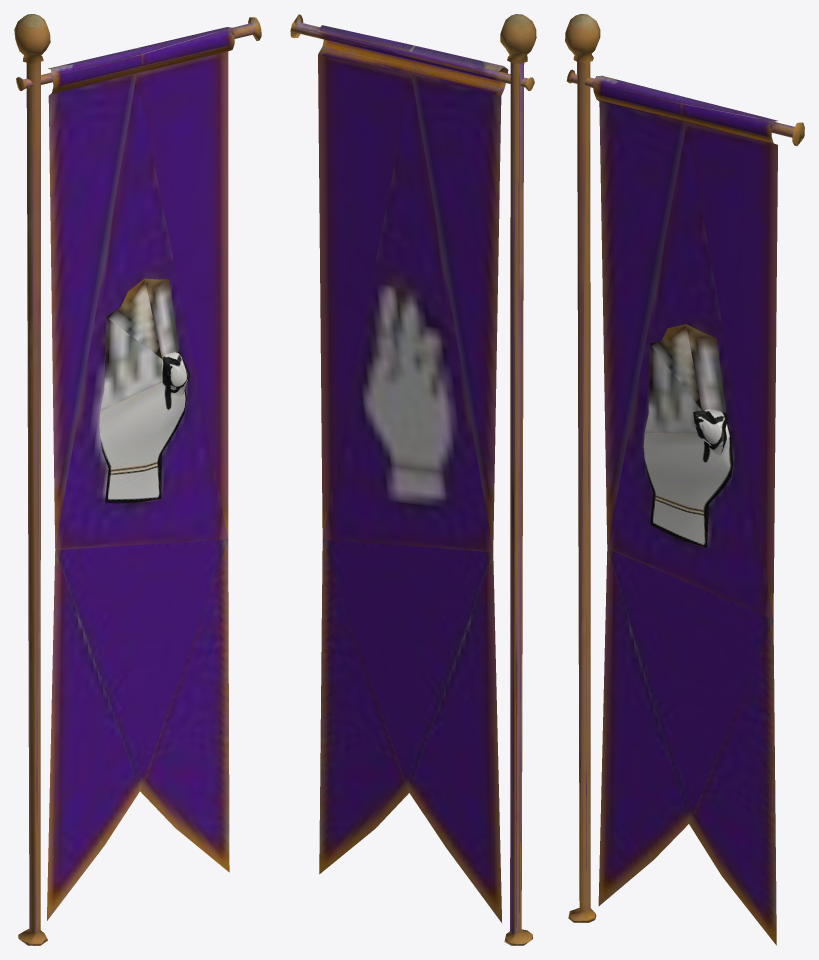
Rendered from cult_banner.glb.
3 renders of one model, left to right at view 1: azimuth 30°, elevation 25°; view 2: azimuth 150°, elevation 25°; view 3: azimuth 330°, elevation 25°, orthographic. The views are drawn at different scales.
Size of the model in its own units: 1.62 by 6 by 0.2402.
Materials: 1 (1 with a texture image).
